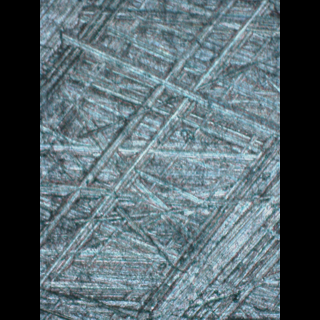d: (133, 128, 279, 320), (59, 28, 275, 140)
